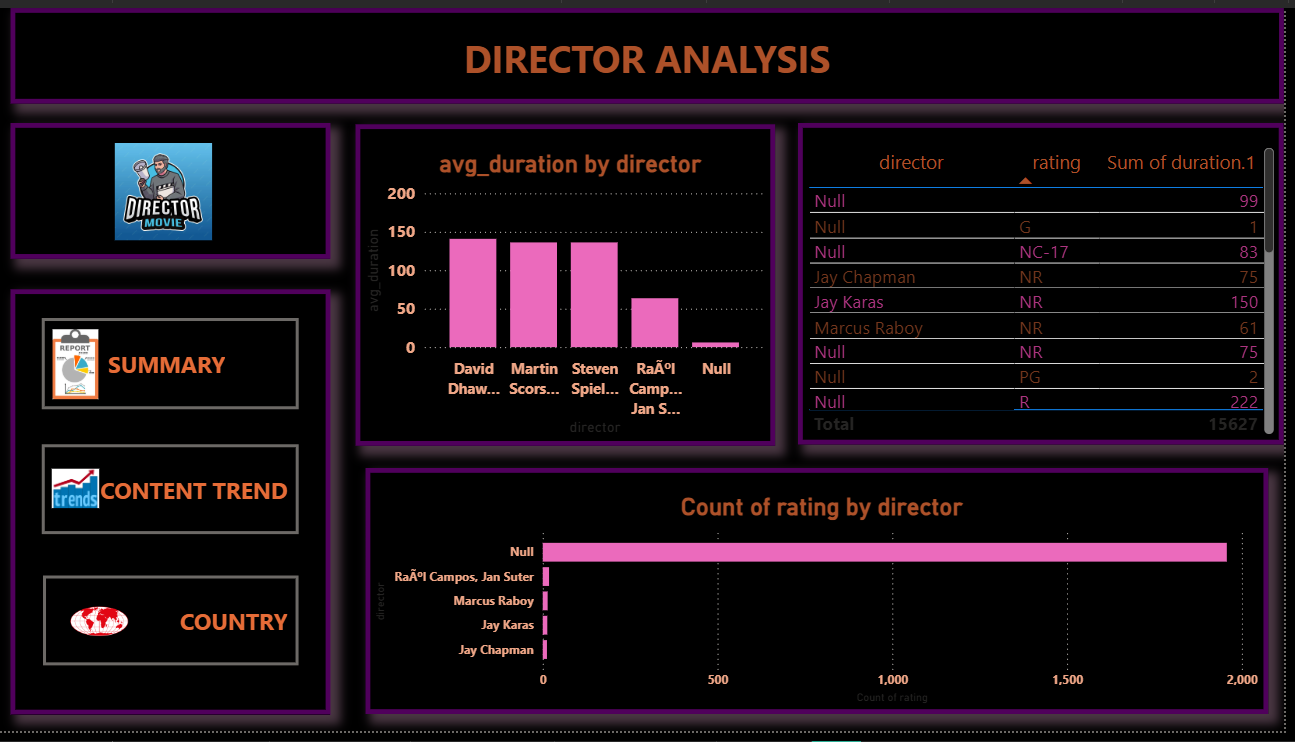

This screenshot's page, from the dashboard's own definition file:
{"tool":"powerbi","page":{"name":"director analysis","canvas":[1280,720],"ordinal":3},"visuals":[{"type":"textbox","box":[12.6,0,1267.4,95],"z":0},{"type":"image","box":[29.3,134.1,269.7,96.4],"z":1000},{"type":"tableEx","fields":{"Values":["Table1.director","Table1.rating","Sum(Table1.duration.1)"]},"box":[796.5,114.6,483.5,320],"z":2000},{"type":"clusteredBarChart","fields":{"Category":["Table1.director"],"Y":["CountNonNull(Table1.rating)"]},"box":[366.1,458.3,898.5,244.5],"z":3000},{"type":"actionButton","box":[43.3,308.8,255.7,90.8],"z":3001},{"type":"actionButton","box":[43.3,434.6,255.7,89.4],"z":3002},{"type":"actionButton","box":[44.7,564.5,254.3,89.4],"z":3003},{"type":"image","box":[67.1,575.7,67.1,68.5],"z":3005},{"type":"image","box":[53.1,444.4,47.5,68.5],"z":3006},{"type":"image","box":[53.1,320,47.5,69.9],"z":3007},{"type":"textbox","box":[12.6,279.5,318.6,423.4],"z":3008},{"type":"textbox","box":[12.6,114.6,318.6,135.5],"z":3009},{"type":"columnChart","fields":{"Y":["Table1.avg_duration"],"Category":["Table1.director"]},"box":[356.3,116,417.8,320],"z":3010}]}

Visuals, with their boxes in screenshot pixels (x1, y1, x2, y2), scaled from the page's 1280x720 canvas onto the 1295x742 screenshot:
textbox: <region>13, 0, 1294, 98</region>
image: <region>30, 138, 303, 238</region>
tableEx - Table1.director x Table1.rating: <region>806, 118, 1294, 448</region>
clusteredBarChart - Table1.director x CountNonNull(Table1.rating): <region>370, 472, 1279, 724</region>
actionButton: <region>44, 318, 303, 412</region>
actionButton: <region>44, 448, 303, 540</region>
actionButton: <region>45, 582, 303, 674</region>
image: <region>68, 593, 136, 664</region>
image: <region>54, 458, 102, 529</region>
image: <region>54, 330, 102, 402</region>
textbox: <region>13, 288, 335, 724</region>
textbox: <region>13, 118, 335, 258</region>
columnChart - Table1.avg_duration x Table1.director: <region>360, 120, 783, 449</region>
